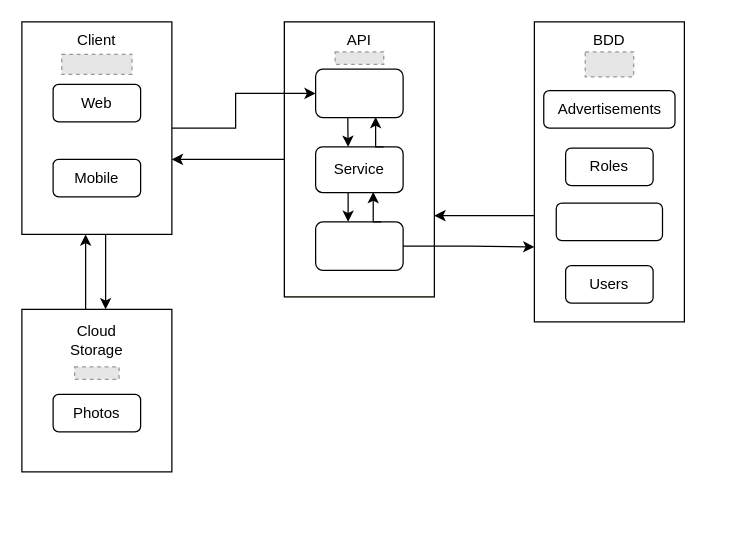
This 731x544 diagram has some shape labels left out. Grey dashed boxes stand in for pictures. Here are the shapes that lost their labels. From the top down, the centre of each, then its label:
At point (358, 93): "Controller".
At point (608, 221): "User_roles".
At point (358, 245): "Repository".
